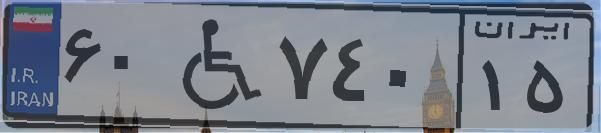0: (385, 28, 445, 110), (110, 28, 158, 98)
1: (475, 38, 525, 113)
4: (330, 28, 385, 110)
5: (525, 38, 570, 115)
6: (57, 26, 110, 100)
7: (270, 28, 330, 110)
ژ (معلولین و جانبازان): (158, 12, 270, 120)
